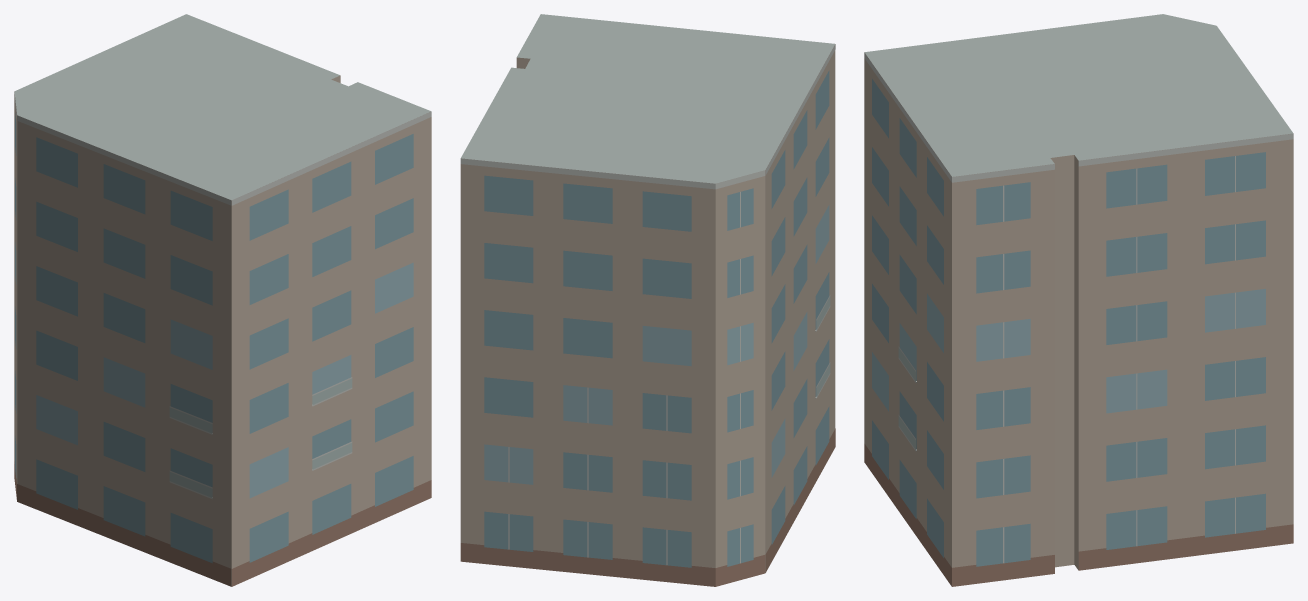
File: survey-upis-32992013.glb
The picture shows the model from 3 angles, left to right: view 1: azimuth 30°, elevation 25°; view 2: azimuth 150°, elevation 25°; view 3: azimuth 270°, elevation 25°; orthographic projection. The views are drawn at different scales.
Parts seen in each view (by area): view 1: survey-upis-32992013.tmp; view 2: survey-upis-32992013.tmp; view 3: survey-upis-32992013.tmp.
Boxes of the visible parts, x1=… form: survey-upis-32992013.tmp: x1=14, y1=14, x2=431, y2=586; survey-upis-32992013.tmp: x1=460, y1=14, x2=835, y2=586; survey-upis-32992013.tmp: x1=864, y1=14, x2=1293, y2=586.
Bounding box in the file's own units: 14.67 × 17.2 × 16.33.
